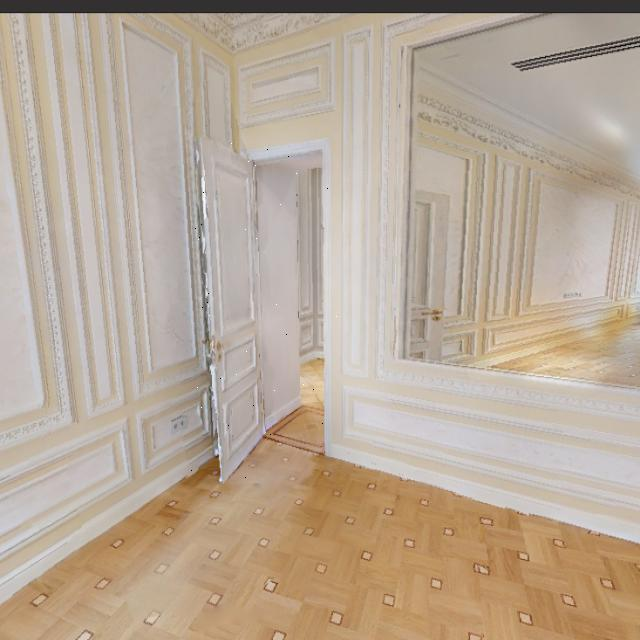door: (190, 134, 274, 488)
door-frame: (241, 139, 341, 471)
